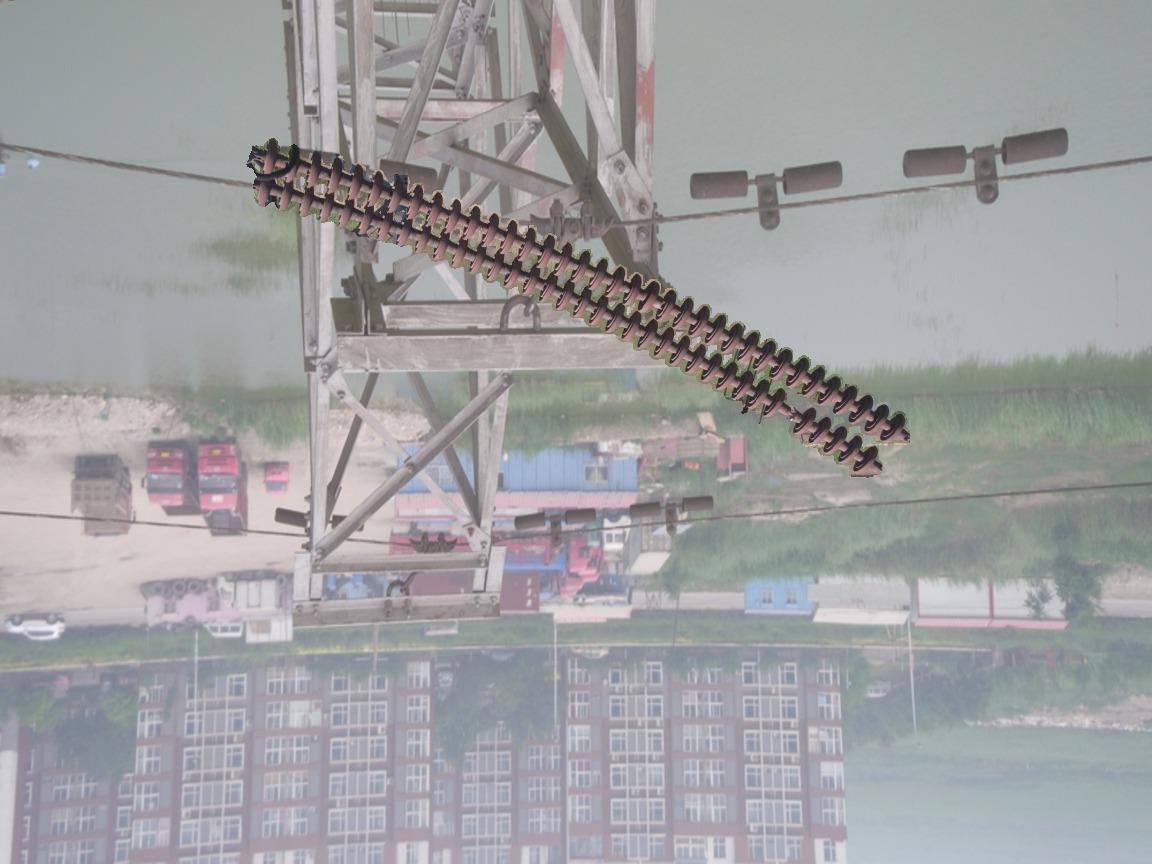insulator: (246, 131, 918, 480)
insulator_stringdrop: (760, 387, 819, 441)
